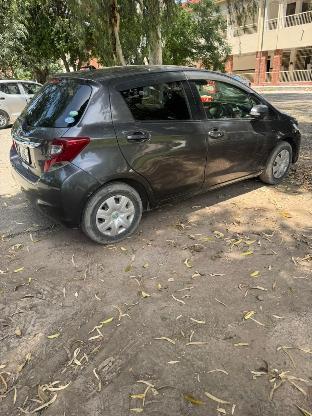car: (6, 61, 307, 248)
